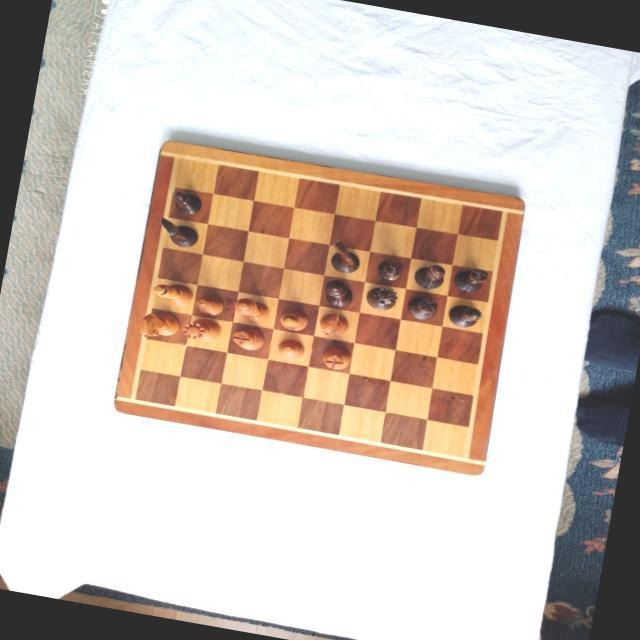black-bishop: (444, 299, 484, 330), (411, 259, 447, 290)
black-king: (321, 275, 355, 308)
black-knight: (154, 215, 200, 248), (325, 237, 362, 274)
black-pawn: (168, 187, 204, 216), (372, 255, 405, 283)
black-queen: (362, 281, 399, 311)
black-rook: (450, 263, 490, 295), (404, 290, 440, 321)
white-bishop: (150, 277, 193, 306), (277, 305, 310, 333)
white-king: (230, 294, 270, 322)
white-knight: (136, 307, 180, 341), (316, 310, 350, 338)
white-pawn: (192, 291, 225, 317), (274, 335, 305, 361)
white-queen: (180, 313, 222, 343)
white-rook: (229, 322, 267, 352), (319, 343, 353, 372)
